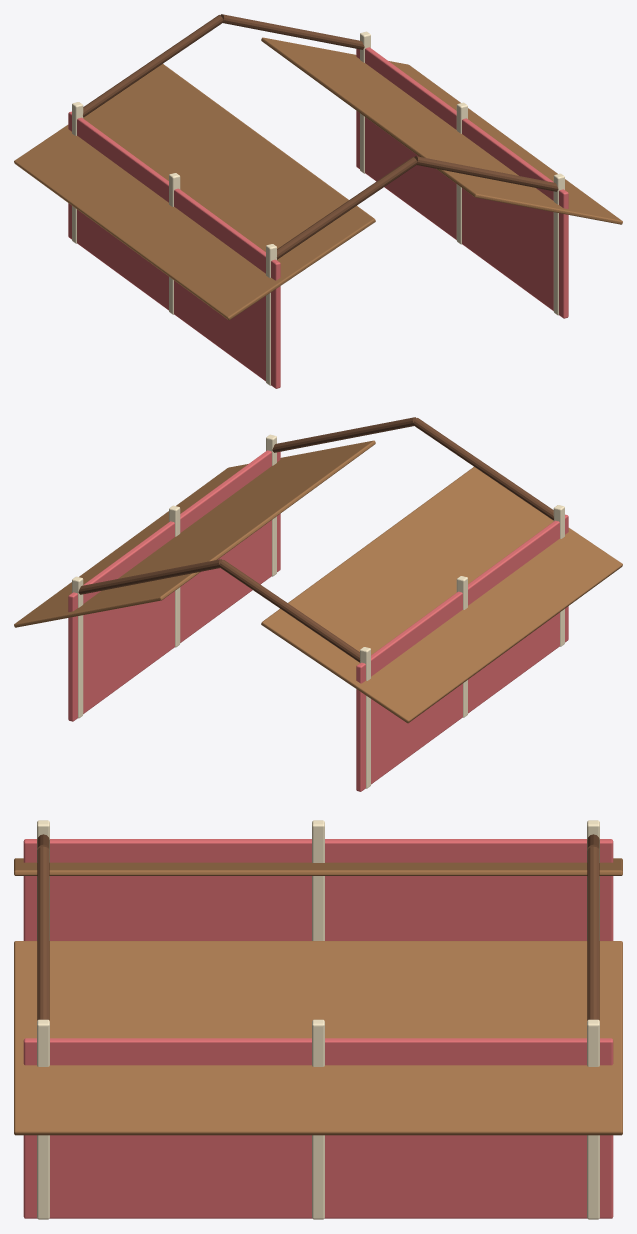
Rendered from race_barn.glb.
3 renders of one model, top to bottom at view 1: azimuth 30°, elevation 25°; view 2: azimuth 150°, elevation 25°; view 3: azimuth 270°, elevation 25°, orthographic. The views are drawn at different scales.
Visible parts, largest first — view 1: race_barn; view 2: race_barn; view 3: race_barn.
Part boxes in pixels (x1,y1,x2,y2): race_barn: (14,14,622,388); race_barn: (14,417,622,791); race_barn: (14,820,622,1219).
Size of the model in its own units: 32.96 by 15.3 by 31.
